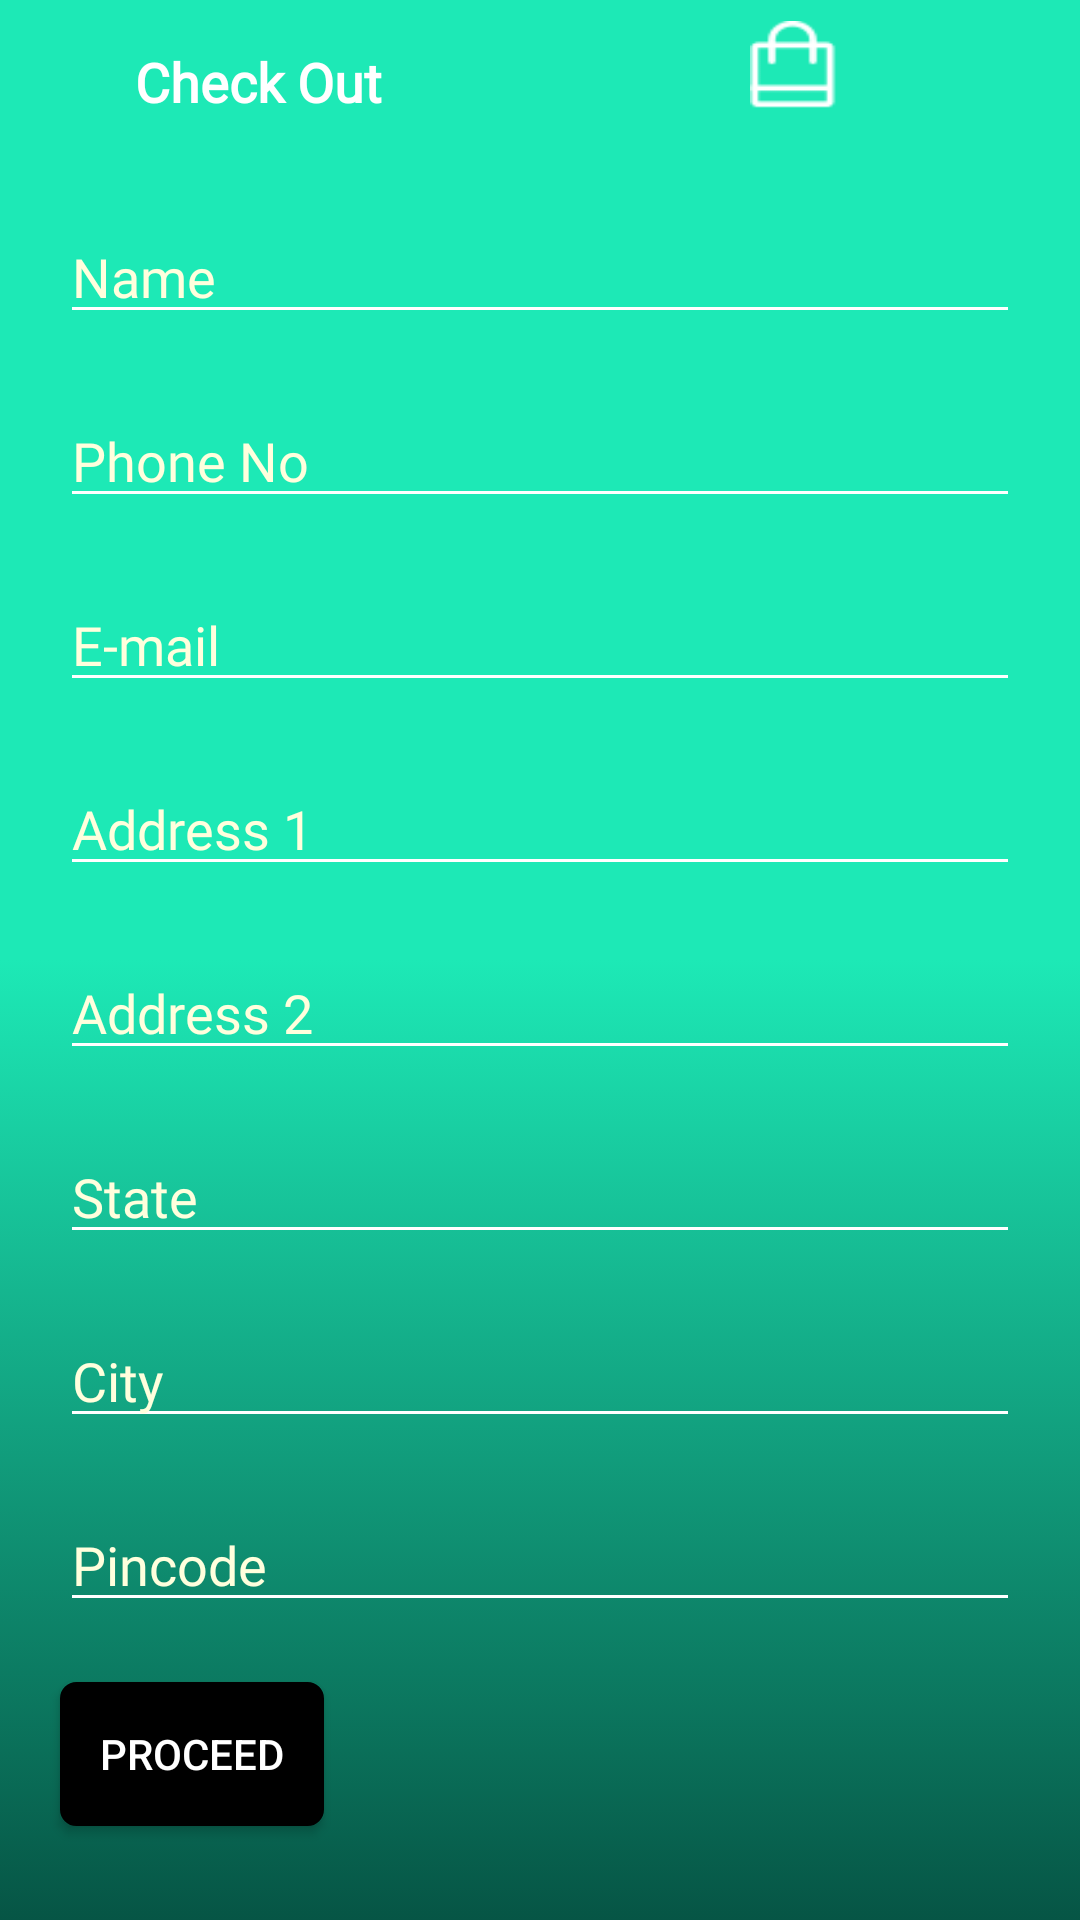

Icon bounding boxes for this 1080px×1920px phone screenshot, format (x1, y1, x2, y2):
storeicon: (750, 21, 836, 108)
